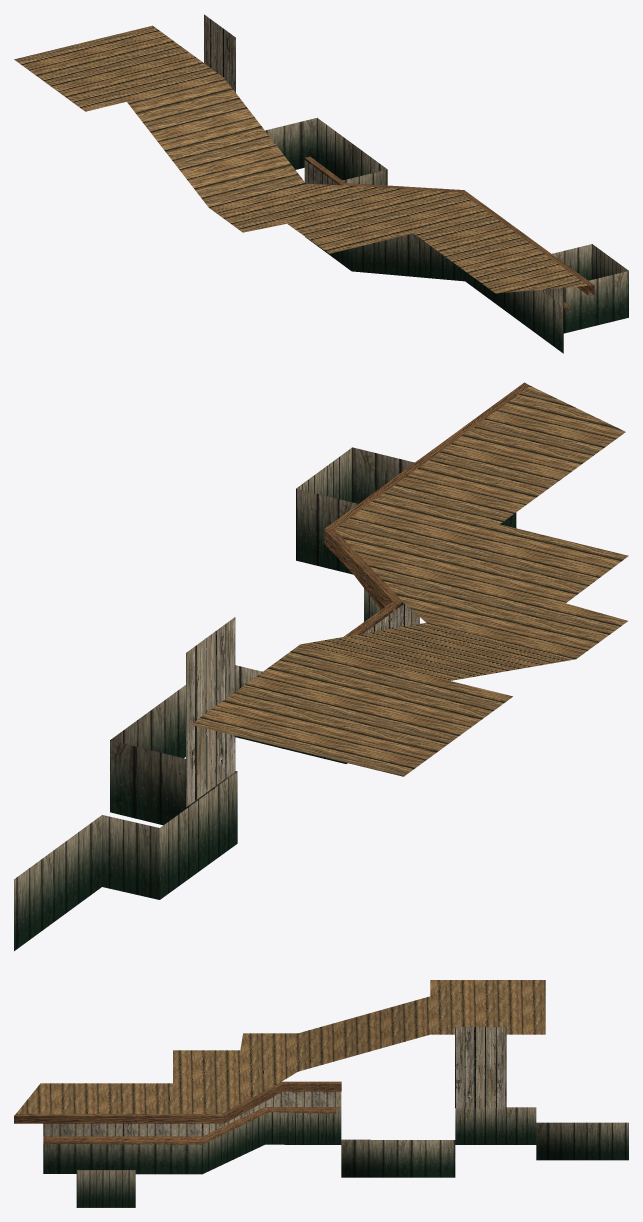
Rendered from LAKETOWN_EXTERIOR_PS_LT_PIERPARTS756__GX.fbx.
3 views of the same model, one above another, from view 1: azimuth 30°, elevation 25°; view 2: azimuth 150°, elevation 25°; view 3: azimuth 270°, elevation 25° (orthographic). The views are drawn at different scales.
Parts seen in each view (by area): view 1: LAKETOWN_EXTERIOR_PS_LT_PIERPARTS756__GX; view 2: LAKETOWN_EXTERIOR_PS_LT_PIERPARTS756__GX; view 3: LAKETOWN_EXTERIOR_PS_LT_PIERPARTS756__GX.
Boxes of the visible parts, x1,y1,x2,y2 form: LAKETOWN_EXTERIOR_PS_LT_PIERPARTS756__GX: (14, 14, 628, 353); LAKETOWN_EXTERIOR_PS_LT_PIERPARTS756__GX: (14, 382, 628, 950); LAKETOWN_EXTERIOR_PS_LT_PIERPARTS756__GX: (14, 980, 628, 1207).
Size of the model in its own units: 175560 by 76392 by 357669.
5 materials, 5 textured.
